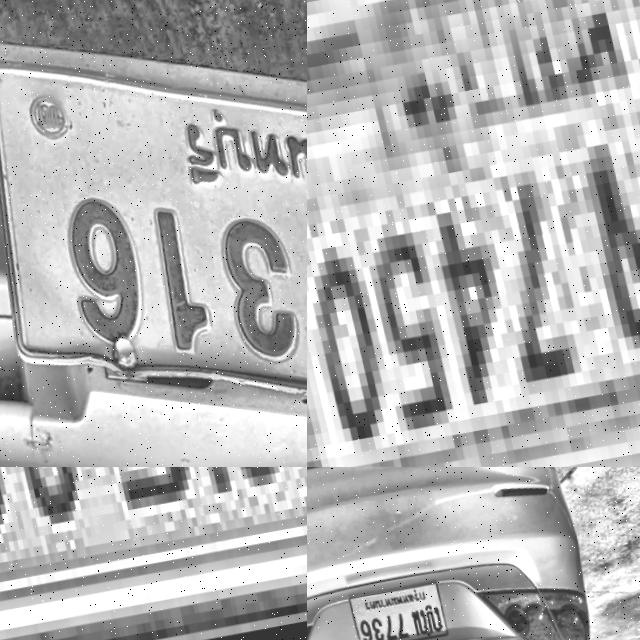license-plate: (307, 0, 640, 467), (0, 0, 307, 467), (0, 467, 307, 640), (342, 579, 446, 640)
